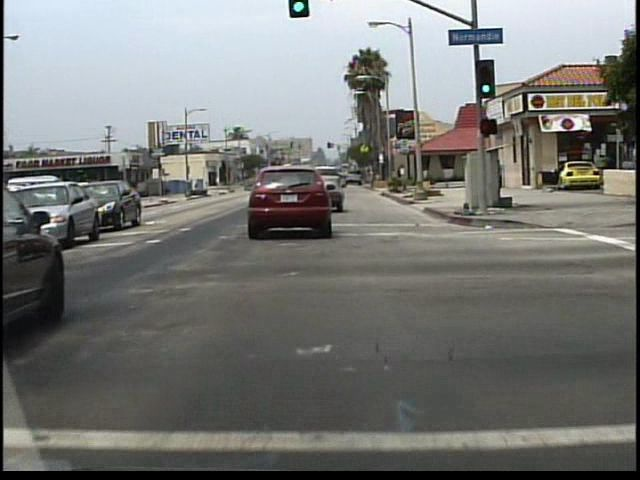person: (600, 150, 617, 196)
